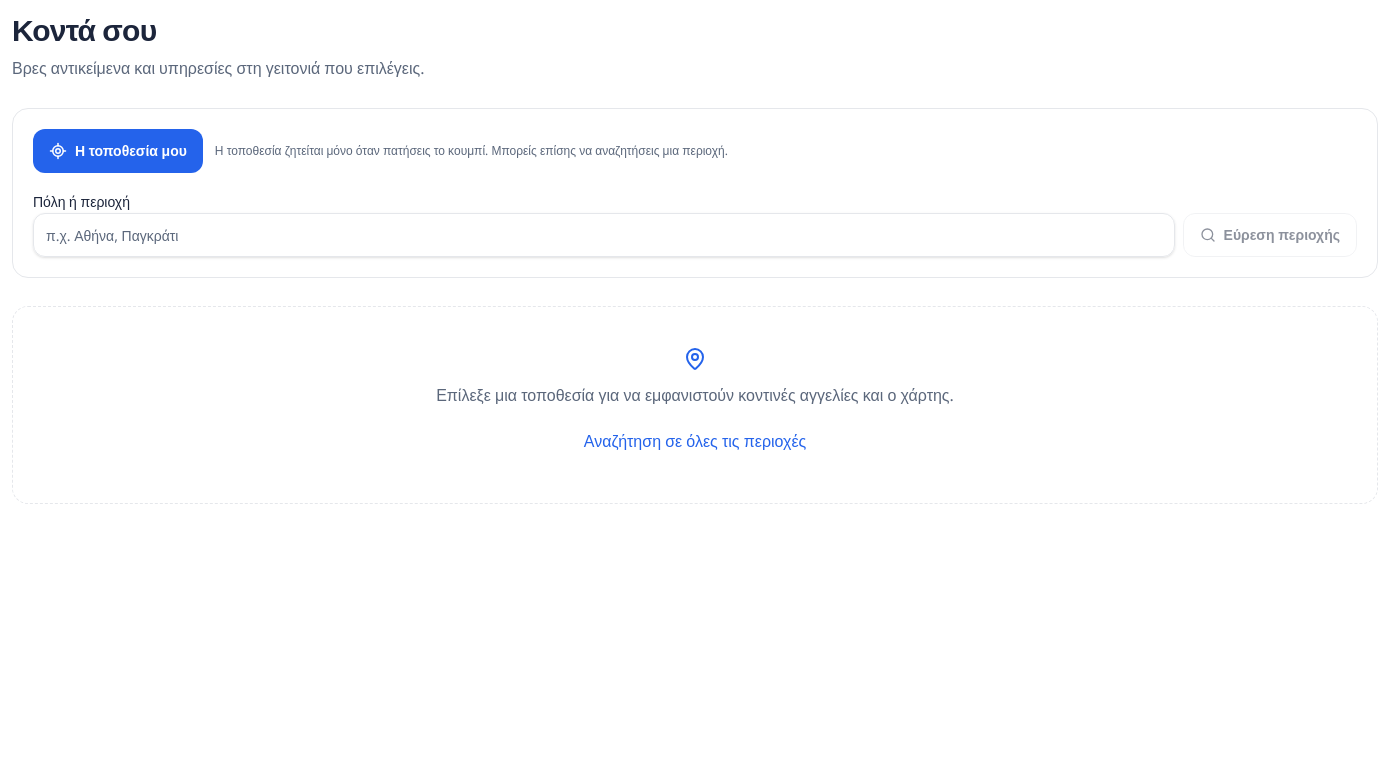
Test case: Nearby discovery › ignores a stale area response and shows localized retry feedback on failure
In the field labelled "Πόλη ή περιοχή": (604, 235) [33,213,1175,257], type "Athens"
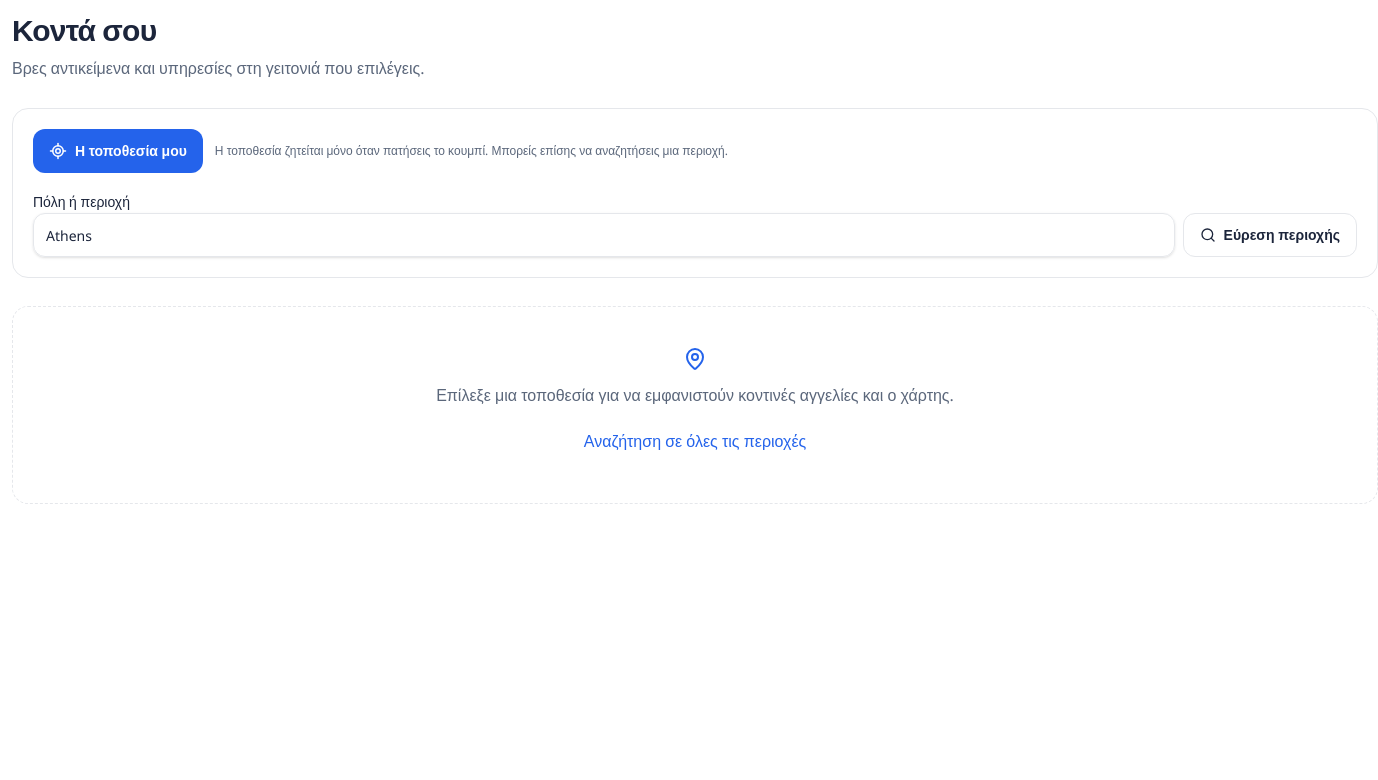
Click the button "Εύρεση περιοχής": (1270, 235) [1183,213,1357,257]
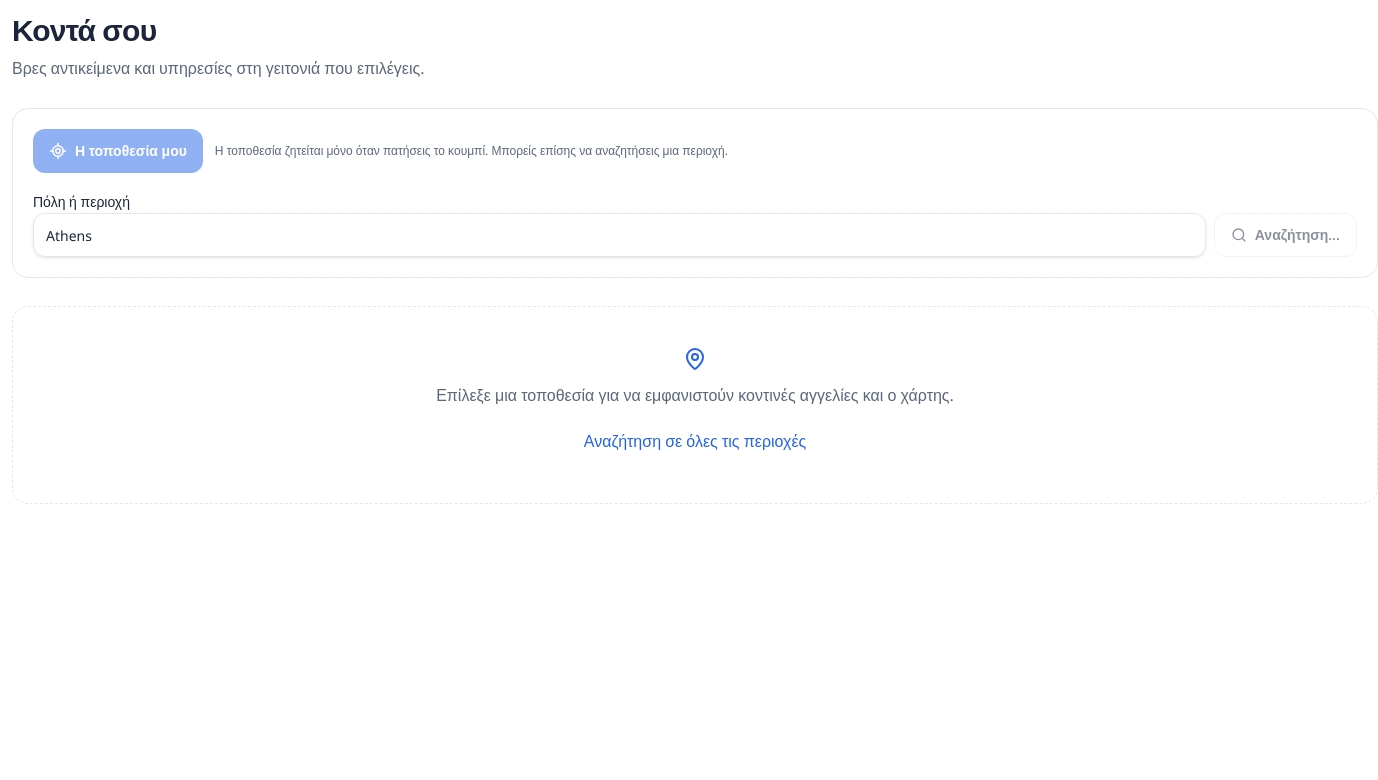
Replace the text in the field labelled "Πόλη ή περιοχή" with "Patras": (619, 235) [33,213,1206,257]
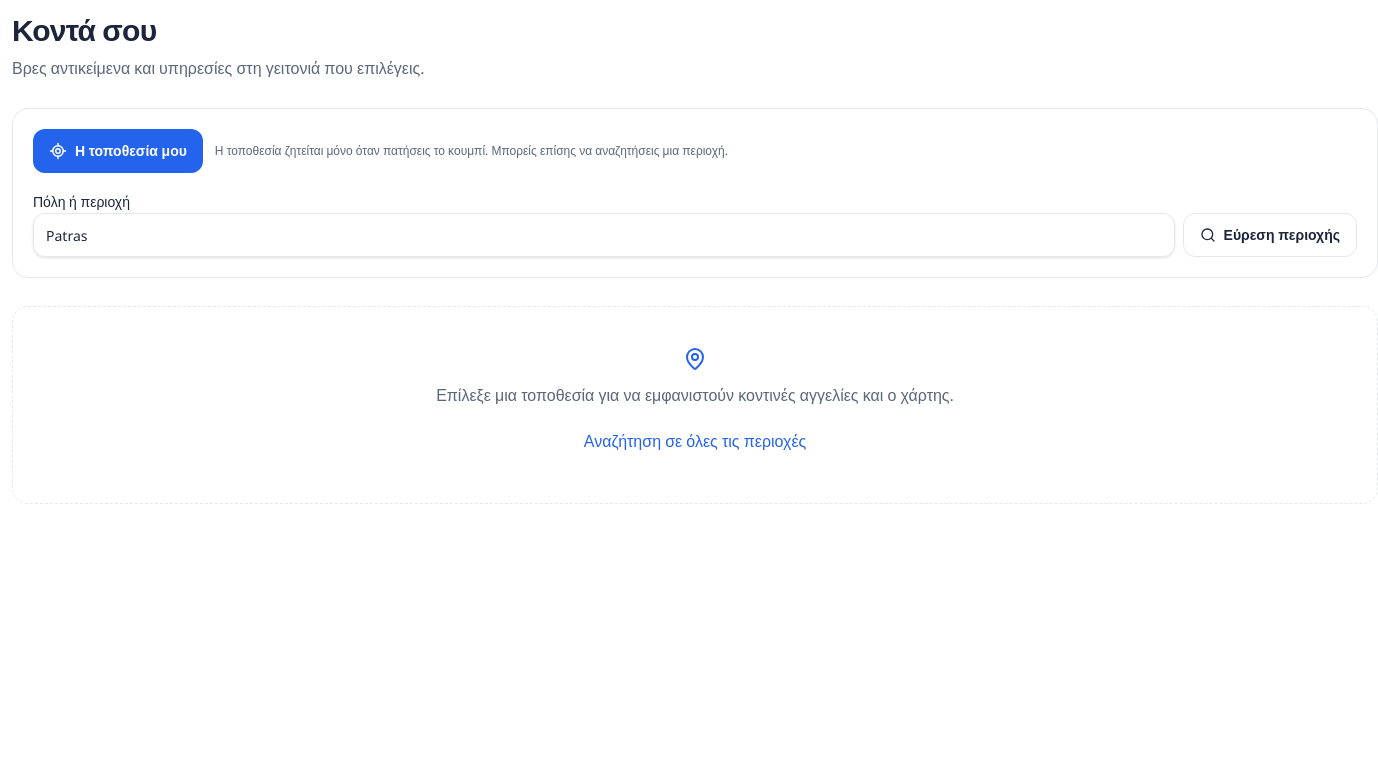
Click the button "Εύρεση περιοχής": (1270, 235) [1183,213,1357,257]
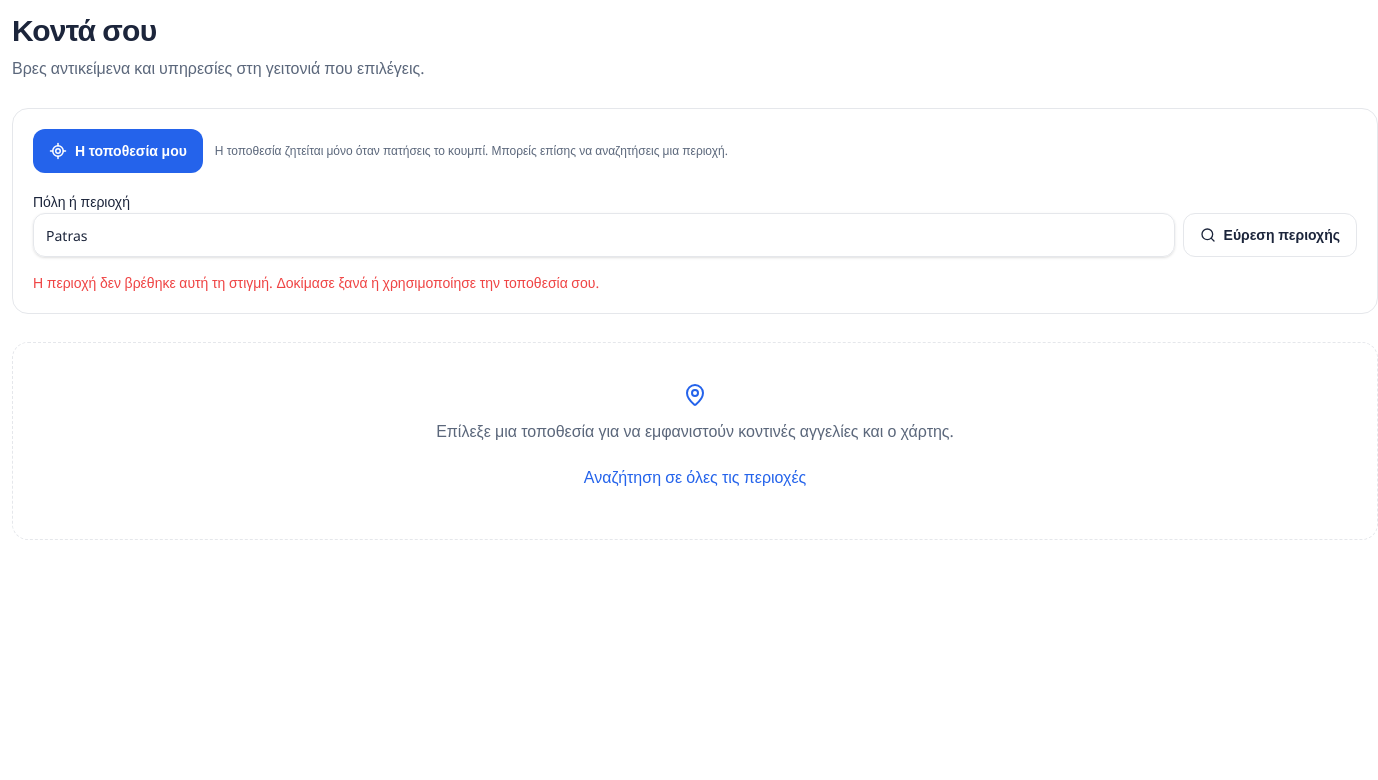
Check: the button "Εύρεση περιοχής" is enabled, box [1183,213,1357,257]
Check: the message shows "Δοκίμασε ξανά", box [33,273,599,292]
